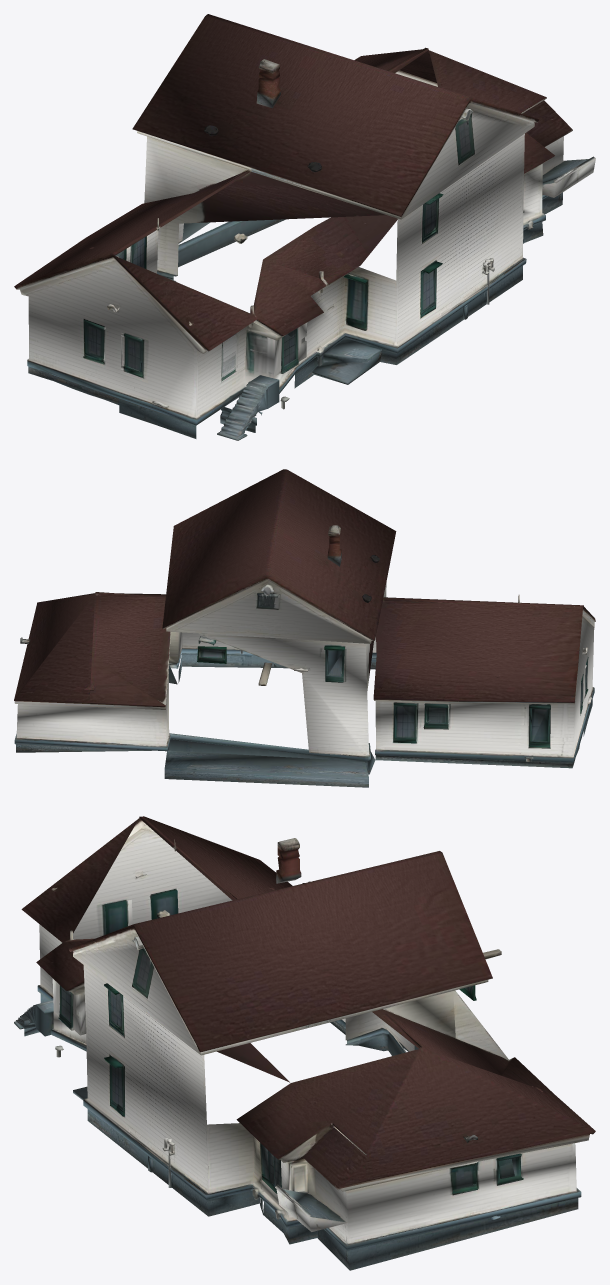
The model's file is 019ffd04-89d9-710c-8709-c60b197a1759.glb.
3 views of the same model, one above another, from view 1: azimuth 30°, elevation 25°; view 2: azimuth 150°, elevation 25°; view 3: azimuth 270°, elevation 25° (orthographic). The views are drawn at different scales.
Visible parts, largest first — view 1: tripo_node_778e2509-4a31-4f67-998f-b0d0c04417a3; view 2: tripo_node_778e2509-4a31-4f67-998f-b0d0c04417a3; view 3: tripo_node_778e2509-4a31-4f67-998f-b0d0c04417a3.
Part boxes in pixels (<box>): tripo_node_778e2509-4a31-4f67-998f-b0d0c04417a3: <box>14,14,595,440</box>; tripo_node_778e2509-4a31-4f67-998f-b0d0c04417a3: <box>14,469,595,787</box>; tripo_node_778e2509-4a31-4f67-998f-b0d0c04417a3: <box>14,816,595,1270</box>.
Size of the model in its own units: 0.998 by 0.3926 by 0.7715.
1 material, 1 textured.
